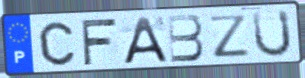A: (121, 15, 170, 65)
B: (166, 12, 207, 64)
C: (37, 20, 77, 68)
F: (78, 16, 118, 67)
U: (251, 8, 294, 59)
Z: (207, 13, 251, 59)
